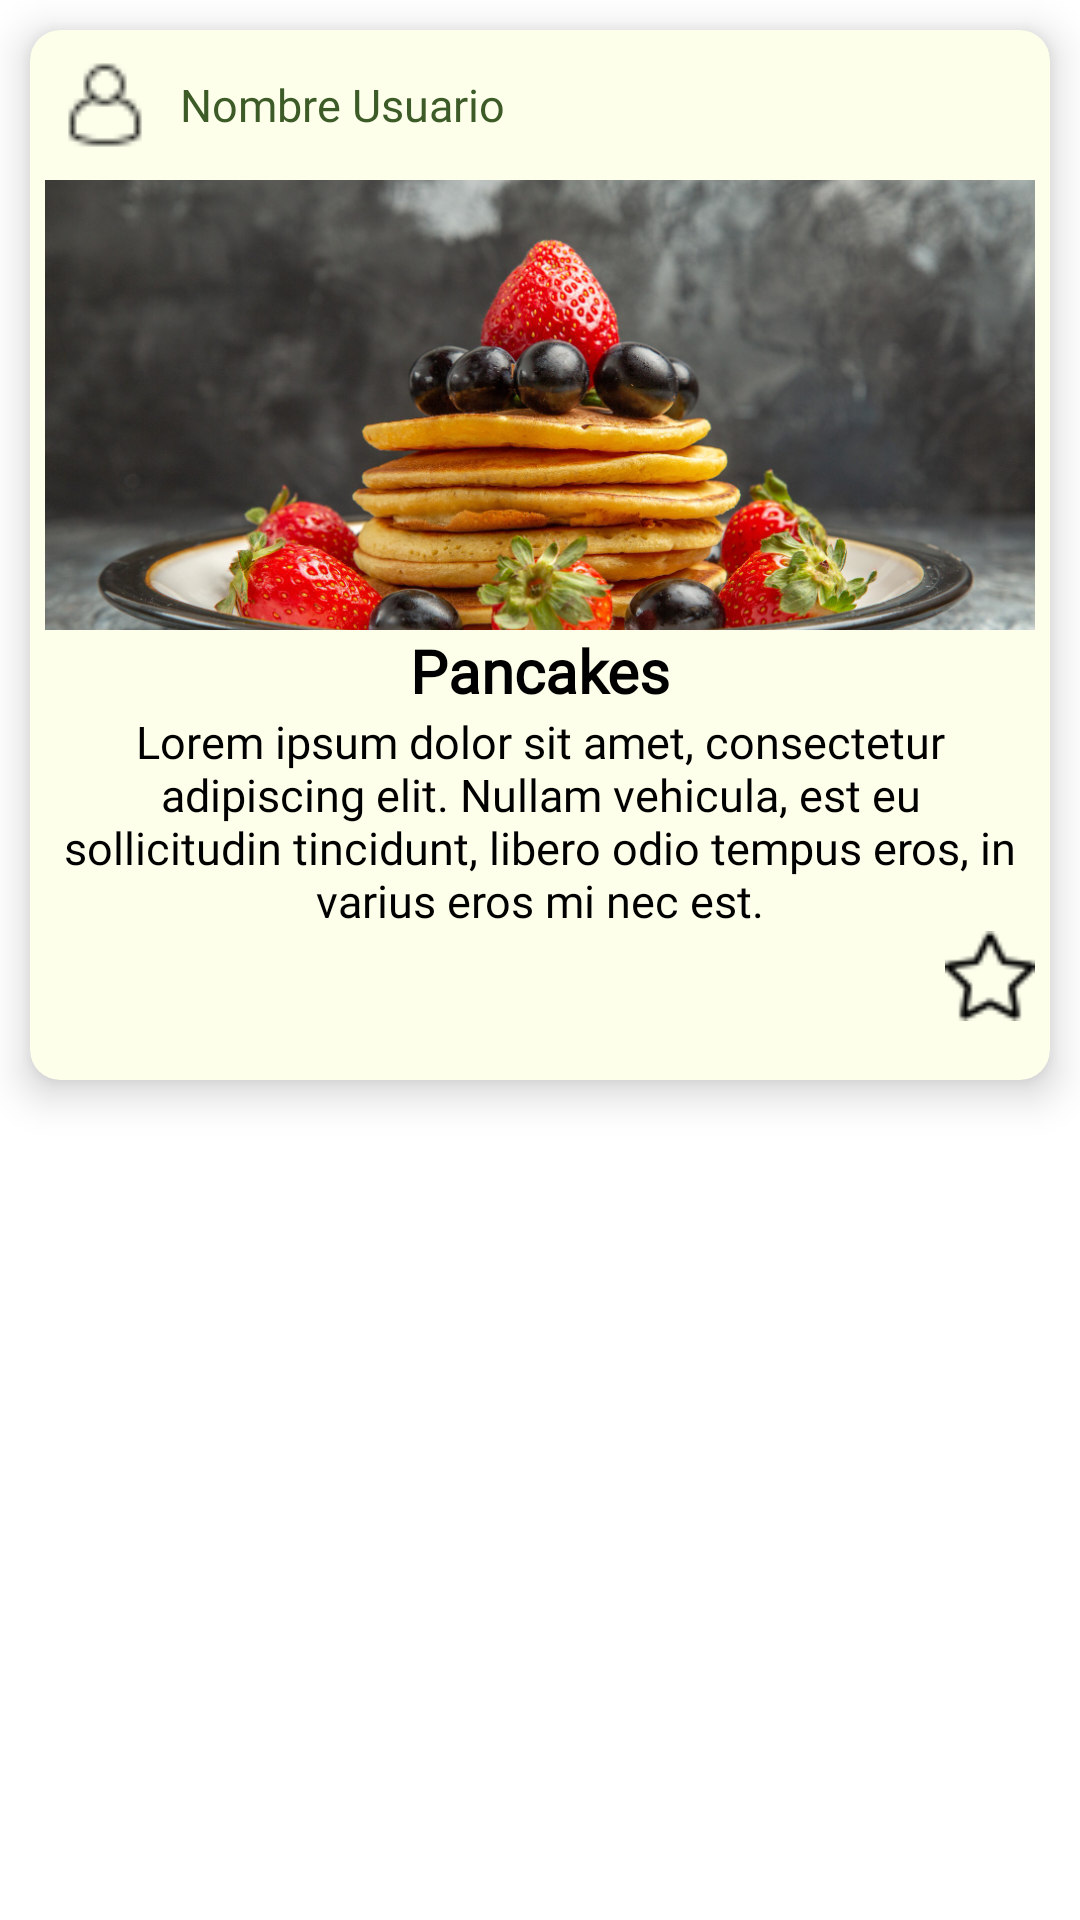

Where icons sit on this 1080w x 1920h app screen, as (x1, y1, x2, y2):
Icono de Estrella: (945, 931, 1035, 1021)
Icono de Persona: (68, 63, 142, 147)
